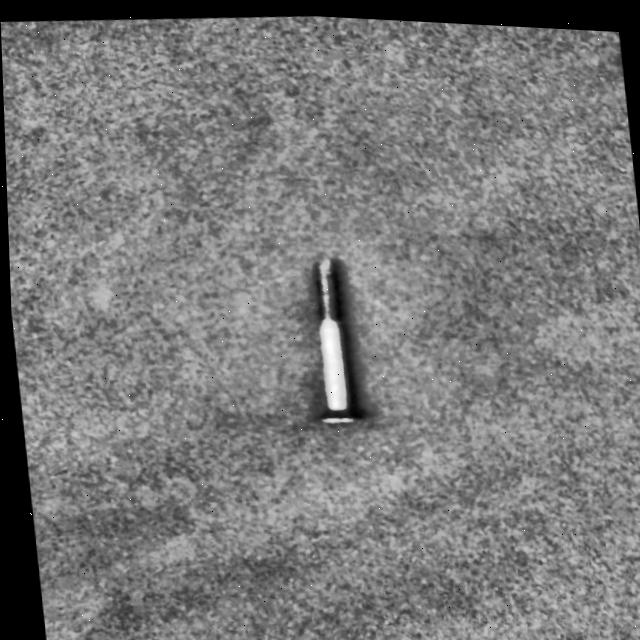Flat head socket screw: (294, 249, 371, 426)
